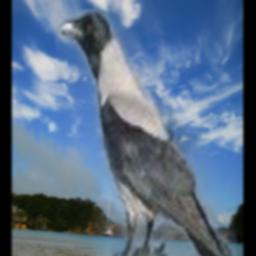Crow: (56, 10, 238, 256)
